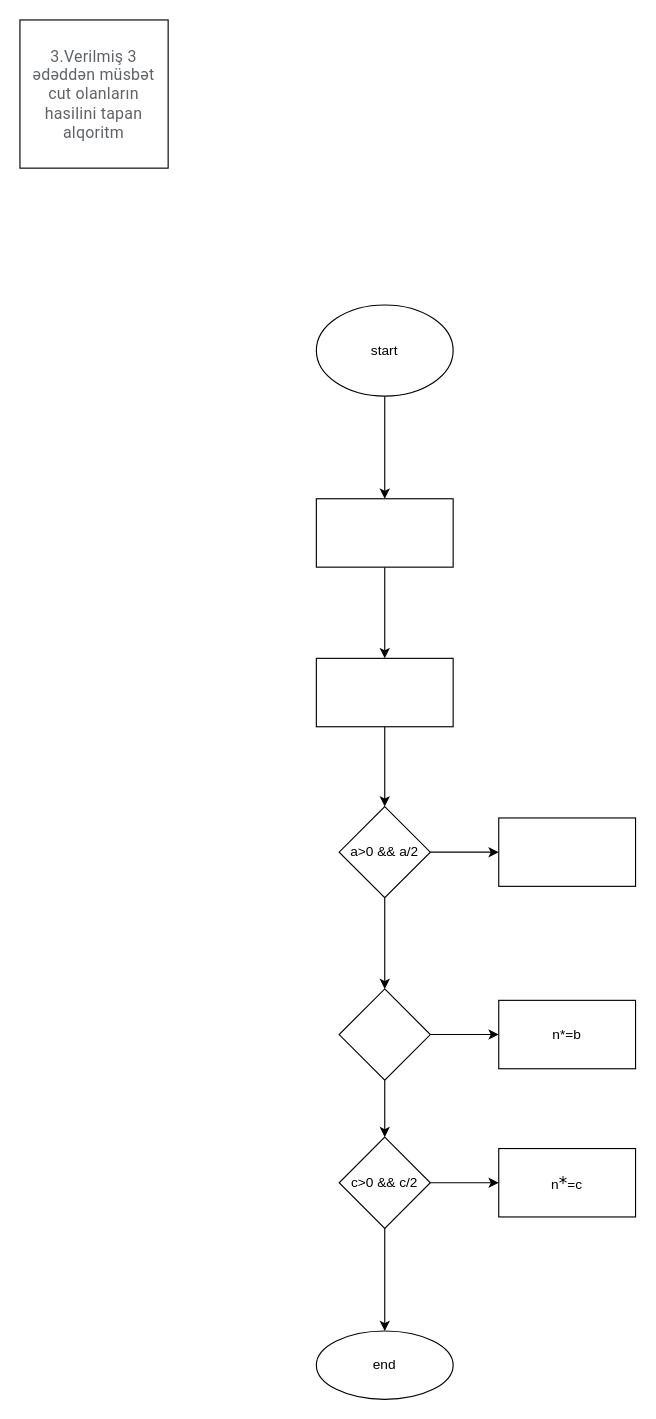
Some shapes in this 656 by 1419 pixel diagram are drawn without their labels. The centre of each missing label's shape, as x and y in pixels:
"a,b,c" belongs at (x=384, y=532).
"b>0 && b/2" belongs at (x=384, y=1034).
"n*=a" belongs at (x=567, y=851).
"n=1" belongs at (x=384, y=692).
